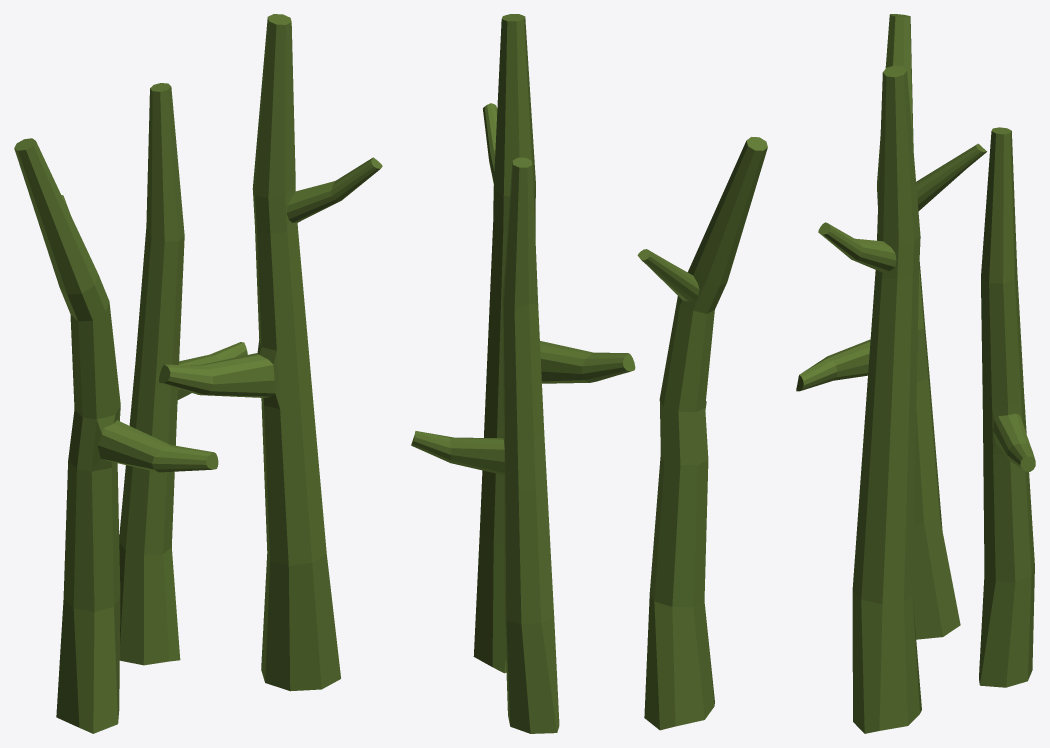
Rendered from Reed_1.fbx.
The picture shows the model from 3 angles, left to right: view 1: azimuth 30°, elevation 25°; view 2: azimuth 150°, elevation 25°; view 3: azimuth 270°, elevation 25°; orthographic projection. The views are drawn at different scales.
Parts seen in each view (by area): view 1: Reed_1; view 2: Reed_1; view 3: Reed_1.
Boxes of the visible parts, left/top/right/bottom form: Reed_1: left=14, top=14, right=382, bottom=733; Reed_1: left=411, top=14, right=767, bottom=733; Reed_1: left=796, top=14, right=1035, bottom=733.
Size of the model in its own units: 37.38 by 72.1 by 24.39.
